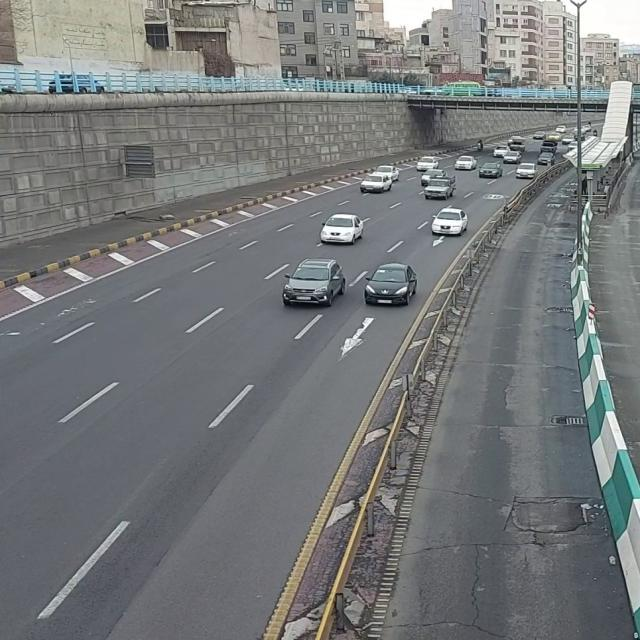Car: (282, 257, 346, 309), (363, 262, 419, 308), (320, 212, 364, 246), (430, 208, 468, 238), (360, 173, 394, 195), (479, 161, 505, 181)
Pickup: (423, 174, 458, 201)
